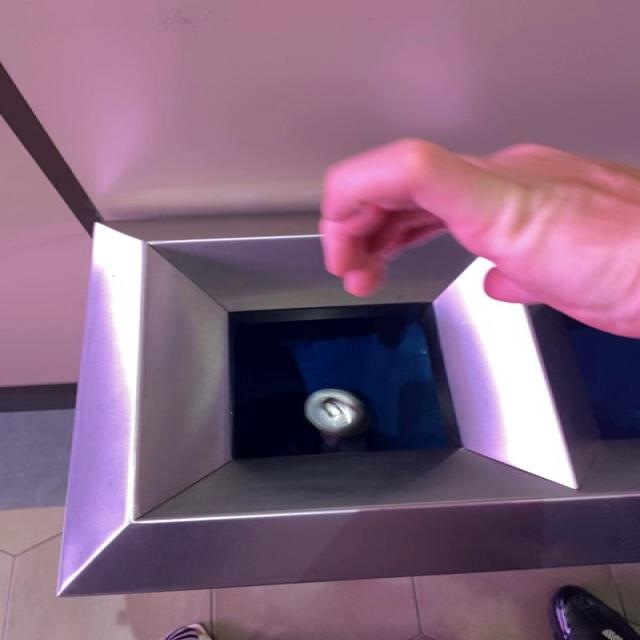bin: (57, 213, 639, 596)
metal: (304, 389, 368, 448)
